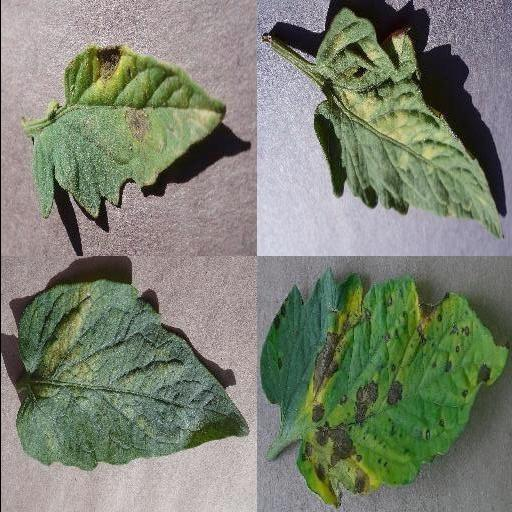Early Blight: (259, 272, 507, 510), (29, 44, 227, 217)
Leaf Mold: (312, 7, 502, 240)
Spider Mites: (16, 279, 250, 473)
